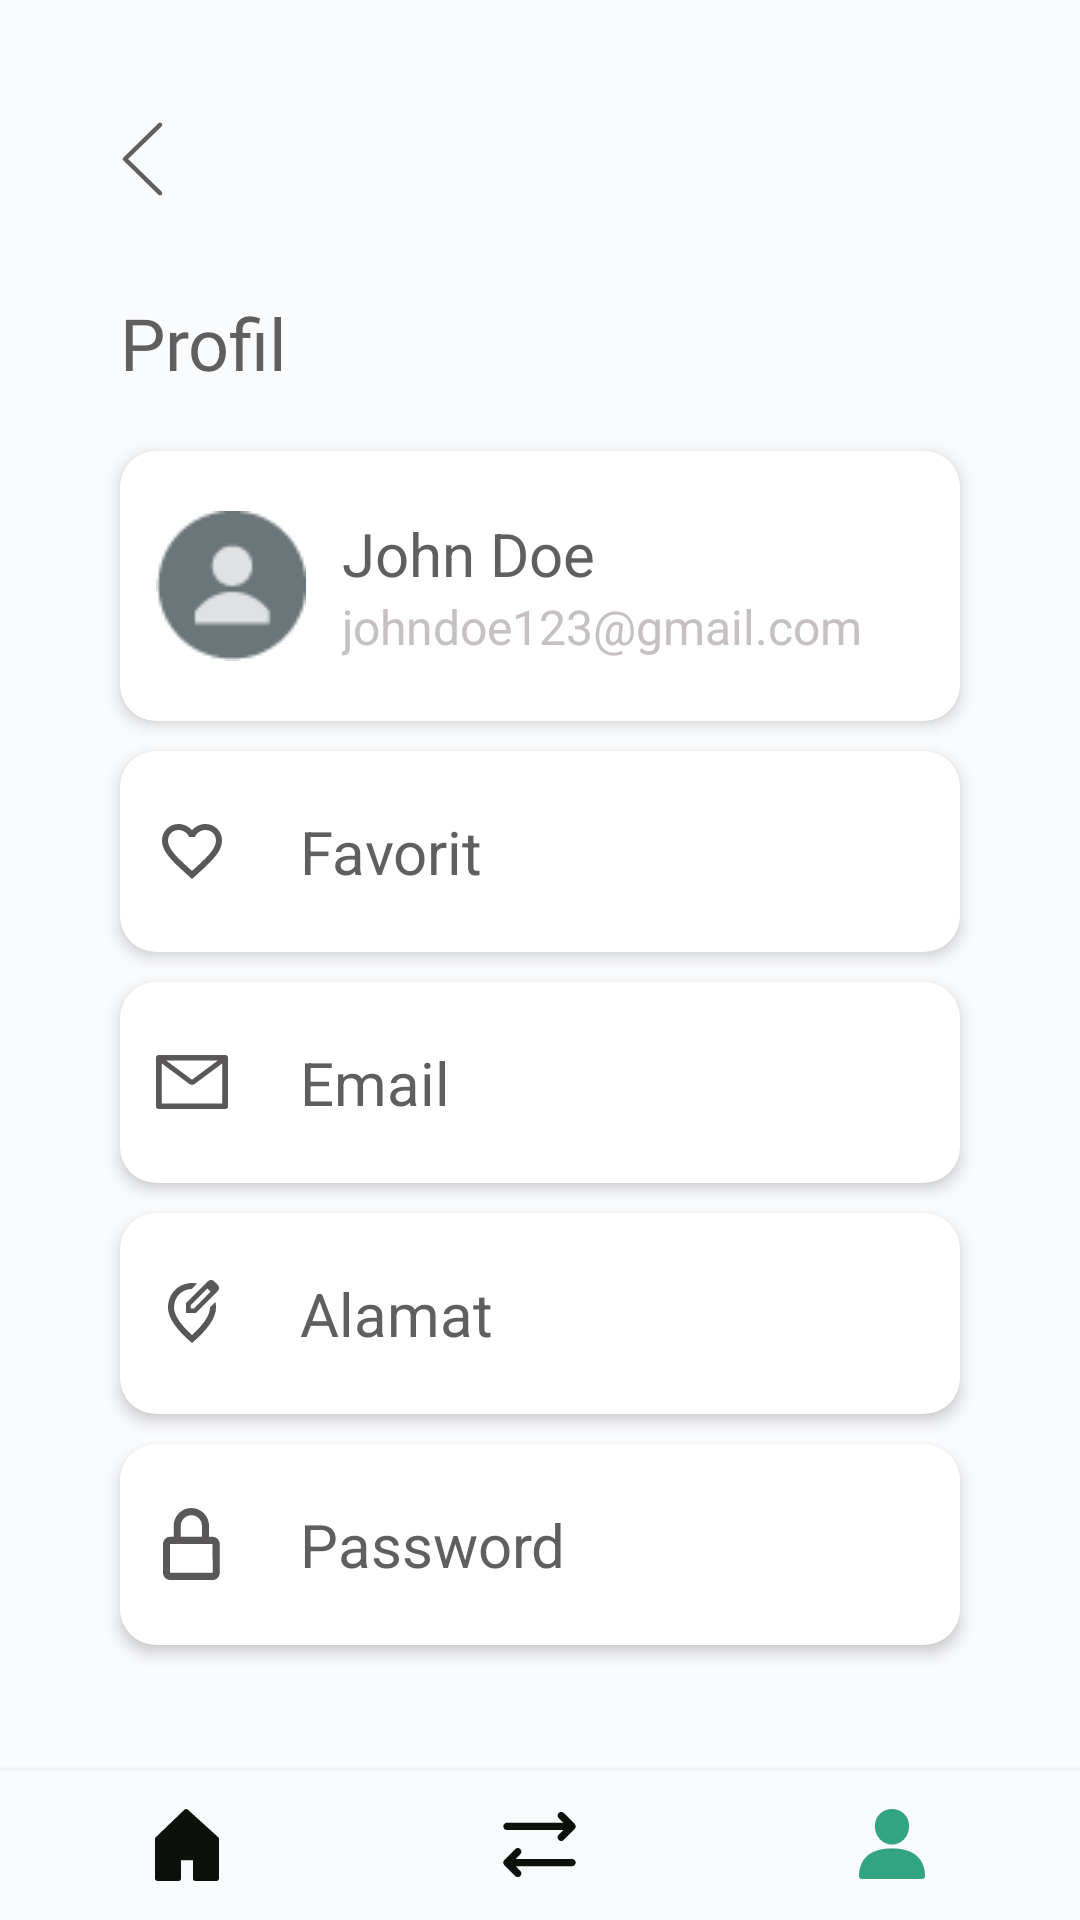

Where icons sit on this 1080x1920 app screen, as bbox(x1, y1, x2, y2):
kembali: bbox(123, 122, 163, 196)
profil: bbox(859, 1809, 925, 1879)
rumah: bbox(155, 1809, 219, 1881)
transaksi: bbox(503, 1812, 576, 1877)
